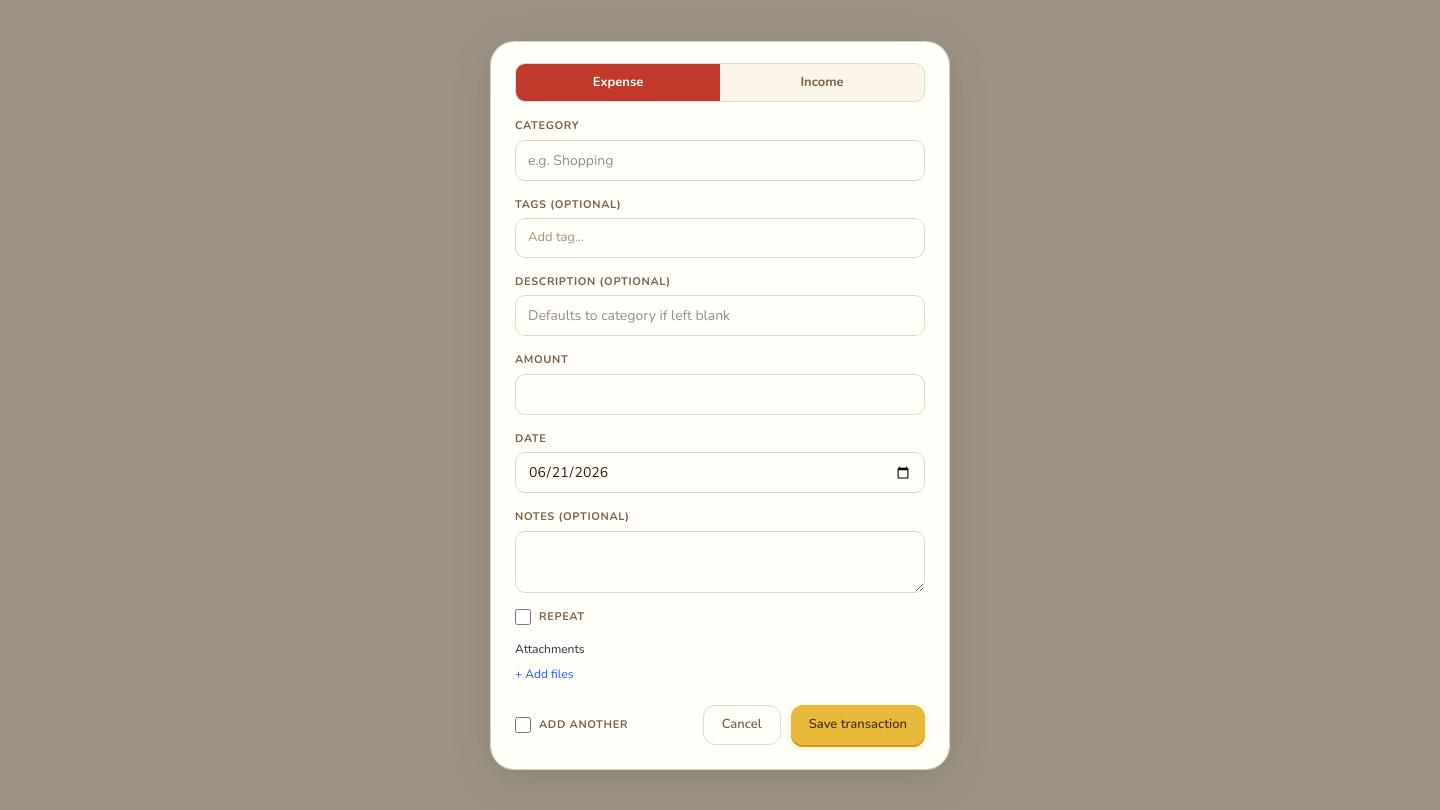
Test case: TransactionForm › shows validation errors when submitted empty
(page scrolled)
Click the button "Save transaction".
click(858, 725)  # box [791, 705, 925, 744]
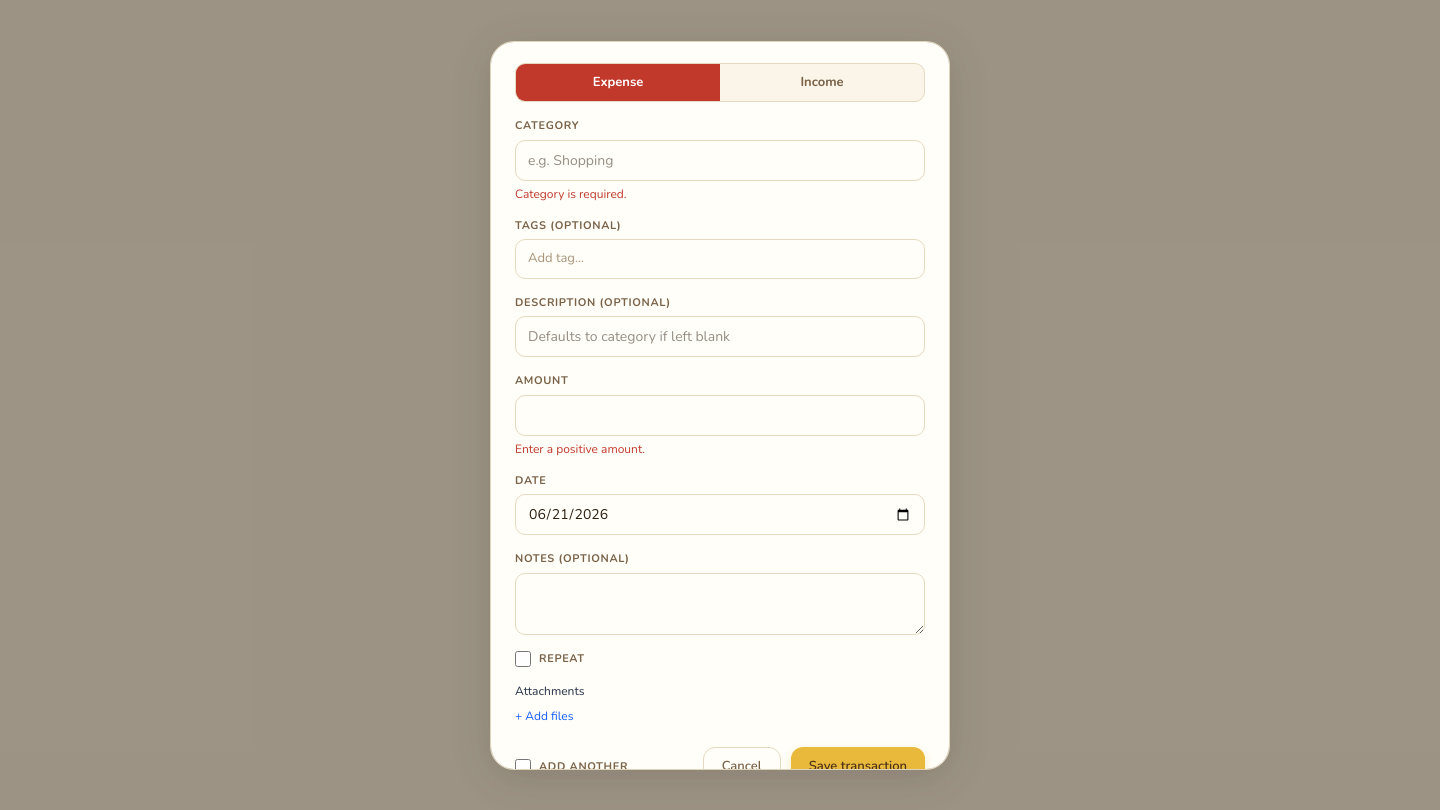
Expected: the text "Category is required." is shown, [515, 186, 626, 202]
Expected: the text "Enter a positive amount." is shown, [515, 440, 645, 456]
